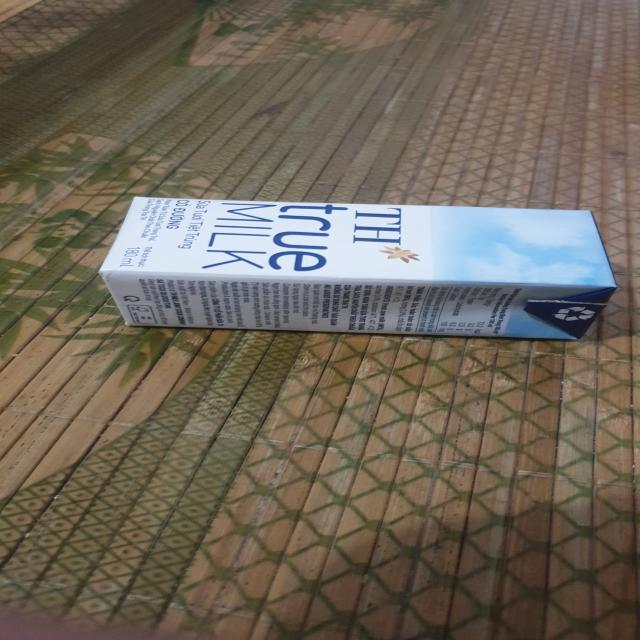TH: (97, 195, 620, 344)
